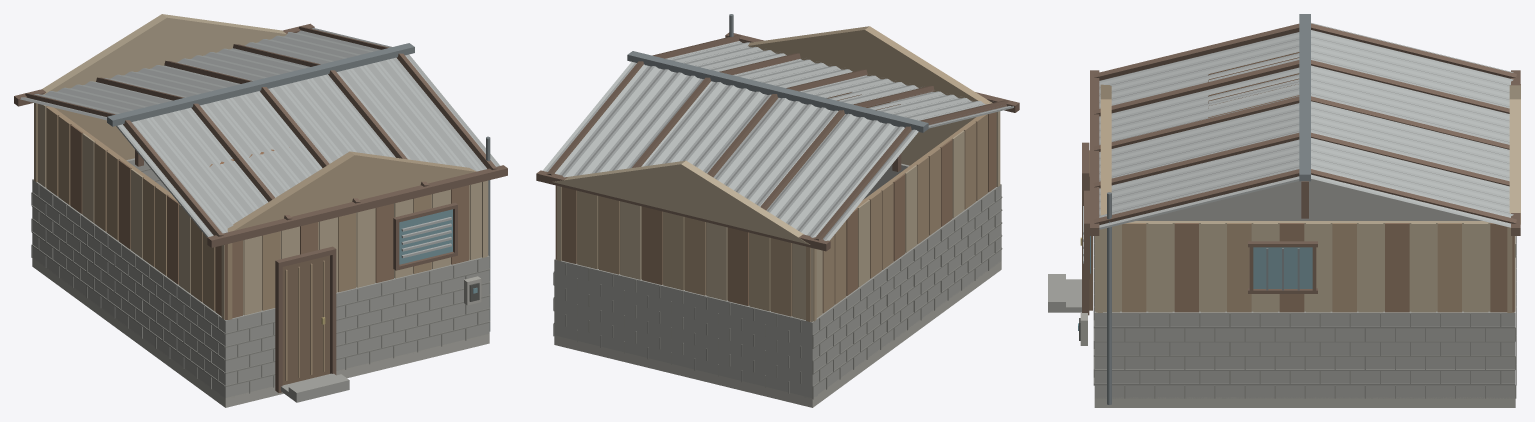
Rendered from SH02_Half_Concrete_Half_Wood.glb.
3 views of the same model, side by side, from view 1: azimuth 30°, elevation 25°; view 2: azimuth 150°, elevation 25°; view 3: azimuth 270°, elevation 25° (orthographic). The views are drawn at different scales.
Visible parts, largest first — view 1: 412_Gable_roof_right_sheet, 002_Front_CHB_concrete, 140_Left_CHB_concrete, 411_Gable_roof_left_sheet, 409_Front_gable, 410_Rear_gable, 382_Front_door_door, 001_Concrete_floor, 415_Gable_roof_fascia_1, 413_Gable_roof_ridge_cap, 391_Jalousie_window_glass, 335_Rear_upper_backing (+50 smaller); view 2: 411_Gable_roof_left_sheet, 071_Rear_CHB_concrete, 140_Left_CHB_concrete, 412_Gable_roof_right_sheet, 410_Rear_gable, 409_Front_gable, 001_Concrete_floor, 413_Gable_roof_ridge_cap, 340_Rear_upper_plank_05, 342_Rear_upper_plank_07, 344_Rear_upper_plank_09, 338_Rear_upper_plank_03 (+45 smaller); view 3: 230_Right_CHB_concrete, 411_Gable_roof_left_sheet, 412_Gable_roof_right_sheet, 140_Left_CHB_concrete, 001_Concrete_floor, 365_Right_upper_backing, 401_Side_window_glass, 371_Right_upper_plank_06, 369_Right_upper_plank_04, 370_Right_upper_plank_05, 372_Right_upper_plank_07, 379_Right_upper_plank_14 (+39 smaller).
Boxes of the visible parts, x1,y1,x2,y2 form: 412_Gable_roof_right_sheet: (116, 54, 500, 237); 002_Front_CHB_concrete: (220, 255, 489, 398); 140_Left_CHB_concrete: (32, 179, 234, 397); 411_Gable_roof_left_sheet: (20, 28, 391, 120); 409_Front_gable: (227, 151, 476, 232); 410_Rear_gable: (42, 14, 286, 94); 382_Front_door_door: (282, 255, 329, 385); 001_Concrete_floor: (32, 258, 489, 407); 415_Gable_roof_fascia_1: (207, 165, 507, 247); 413_Gable_roof_ridge_cap: (107, 43, 414, 126); 391_Jalousie_window_glass: (399, 209, 452, 264); 335_Rear_upper_backing: (34, 103, 134, 182); 411_Gable_roof_left_sheet: (542, 62, 918, 240); 071_Rear_CHB_concrete: (554, 259, 817, 398); 140_Left_CHB_concrete: (803, 185, 1001, 398); 412_Gable_roof_right_sheet: (665, 41, 1013, 128); 410_Rear_gable: (553, 160, 809, 244); 409_Front_gable: (748, 26, 992, 104); 001_Concrete_floor: (554, 261, 1001, 407); 413_Gable_roof_ridge_cap: (627, 51, 928, 132); 340_Rear_upper_plank_05: (706, 222, 727, 300); 342_Rear_upper_plank_07: (663, 212, 684, 290); 344_Rear_upper_plank_09: (620, 201, 641, 279); 338_Rear_upper_plank_03: (749, 233, 770, 311); 230_Right_CHB_concrete: (1094, 311, 1515, 398); 411_Gable_roof_left_sheet: (1311, 23, 1513, 227); 412_Gable_roof_right_sheet: (1099, 32, 1299, 229); 140_Left_CHB_concrete: (1137, 179, 1481, 220); 001_Concrete_floor: (1094, 397, 1515, 407); 365_Right_upper_backing: (1094, 221, 1515, 311); 401_Side_window_glass: (1253, 247, 1312, 288); 371_Right_upper_plank_06: (1358, 223, 1383, 312); 369_Right_upper_plank_04: (1411, 223, 1435, 312); 370_Right_upper_plank_05: (1385, 223, 1409, 312); 372_Right_upper_plank_07: (1332, 223, 1356, 312); 379_Right_upper_plank_14: (1148, 223, 1172, 312).
Bounding box in the file's own units: 5.15 × 3.63 × 6.4.
